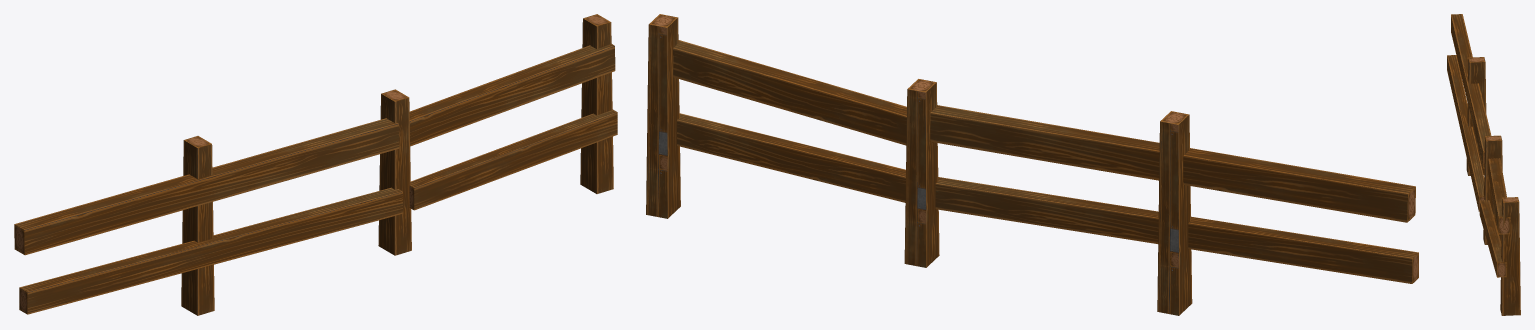
The picture shows the model from 3 angles, left to right: view 1: azimuth 30°, elevation 25°; view 2: azimuth 150°, elevation 25°; view 3: azimuth 270°, elevation 25°; orthographic projection. The views are drawn at different scales.
Parts seen in each view (by area): view 1: Cube.2153; view 2: Cube.2153; view 3: Cube.2153.
Part boxes in pixels (x1,y1,x2,y2): Cube.2153: (14,14,617,315); Cube.2153: (646,14,1418,315); Cube.2153: (1447,14,1520,315).
Size of the model in its own units: 521 by 132 by 78.16.
Materials: 1 (1 with a texture image).
